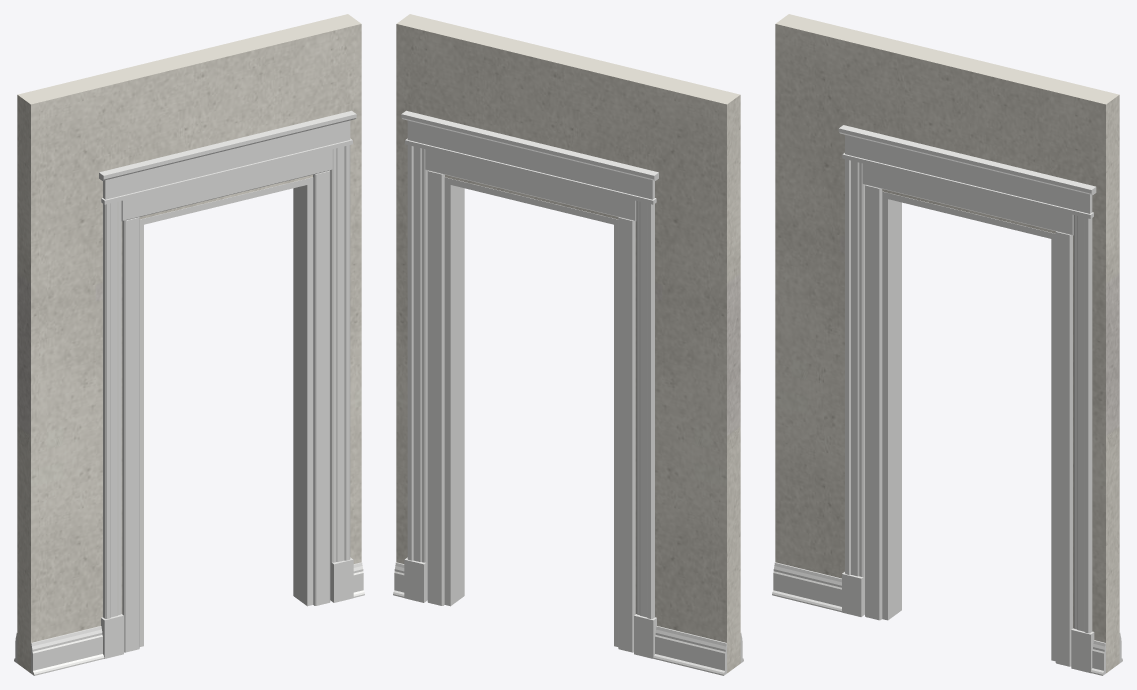
The model's file is iw_end_doorway.glb.
3 views of the same model, side by side, from view 1: azimuth 30°, elevation 25°; view 2: azimuth 150°, elevation 25°; view 3: azimuth 330°, elevation 25° (orthographic).
Visible parts, largest first — view 1: iw_end_doorway_plaster, iw_end_doorway_frame, molduras; view 2: iw_end_doorway_plaster, iw_end_doorway_frame, molduras; view 3: iw_end_doorway_plaster, iw_end_doorway_frame, molduras.
Part boxes in pixels (bbox=[...]): iw_end_doorway_plaster: bbox=[17, 14, 361, 673]; iw_end_doorway_frame: bbox=[121, 149, 332, 652]; molduras: bbox=[14, 110, 364, 675]; iw_end_doorway_plaster: bbox=[396, 14, 740, 673]; iw_end_doorway_frame: bbox=[425, 149, 636, 652]; molduras: bbox=[393, 110, 743, 675]; iw_end_doorway_plaster: bbox=[775, 14, 1119, 673]; iw_end_doorway_frame: bbox=[862, 163, 1073, 666]; molduras: bbox=[772, 125, 1122, 675].
Bounding box in the file's own units: 1.7 × 2.8 × 0.204.
Materials: 3 (1 with a texture image).
